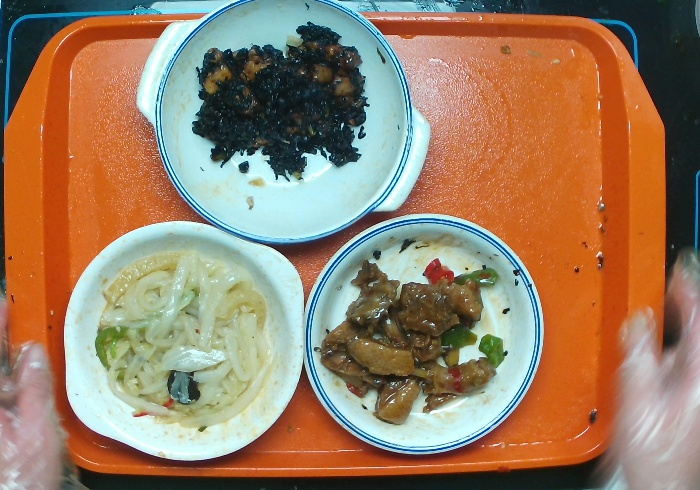HZYJPL-Dai_Er_Bai_Yuan_Wan: (61, 221, 312, 465)
HZYJPL-Lan_Bian_Dai_Er_Wan: (136, 1, 430, 246)
HZYJPL-Lan_Bian_Yuan_Die: (302, 211, 548, 459)
